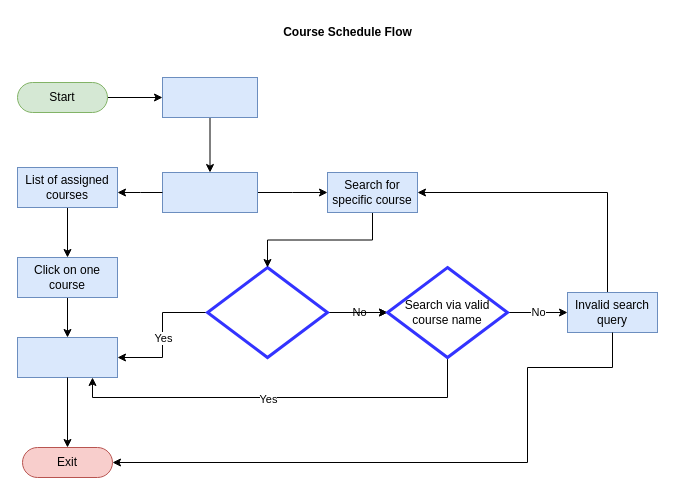
Some shapes in this 675 by 495 pixel diagram are drawn without their labels. The box of each missing label's shape, as (x1, y1, x2, y2) in pixels:
Click on Course Schedule: (162, 172, 258, 212)
Home page: (162, 76, 258, 118)
Search via valid course ID: (206, 266, 328, 358)
Show available classes for the week: (16, 336, 118, 378)
